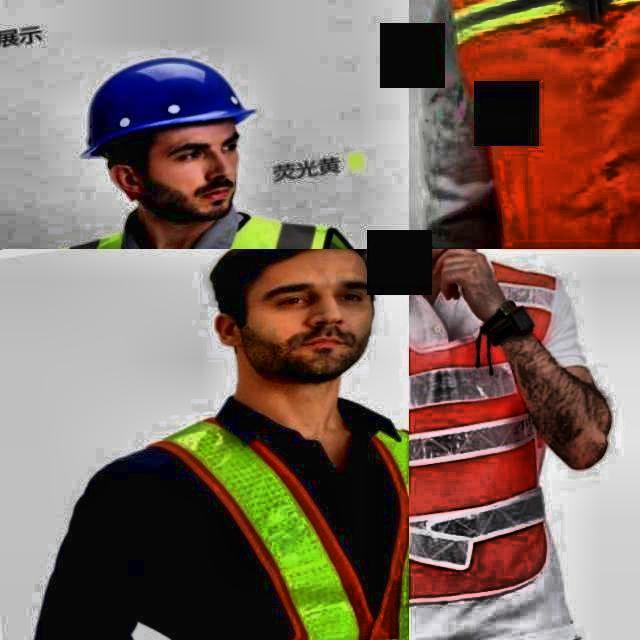safety_jacket: (128, 379, 409, 640), (409, 249, 594, 617), (417, 0, 640, 249)
